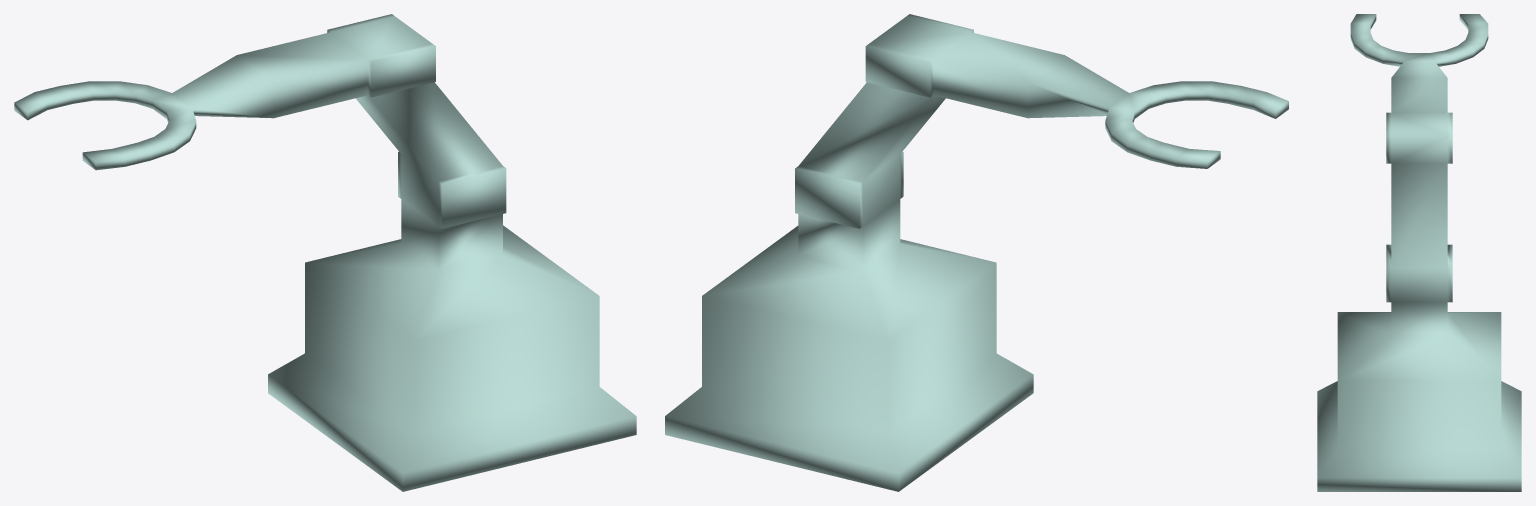
The model's file is CraneHand.fbx.
3 views of the same model, side by side, from view 1: azimuth 30°, elevation 25°; view 2: azimuth 150°, elevation 25°; view 3: azimuth 270°, elevation 25° (orthographic). The views are drawn at different scales.
Parts seen in each view (by area): view 1: CraneHand:Box001; view 2: CraneHand:Box001; view 3: CraneHand:Box001.
Part boxes in pixels (left/top/right/bottom): CraneHand:Box001: left=14, top=14, right=636, bottom=491; CraneHand:Box001: left=665, top=14, right=1288, bottom=491; CraneHand:Box001: left=1317, top=14, right=1521, bottom=491.
Size of the model in its own units: 22.04 by 16.09 by 10.
